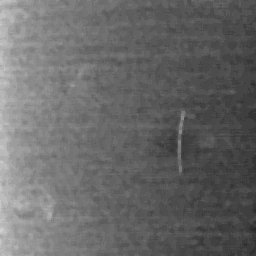sct: (174, 108, 191, 175)
